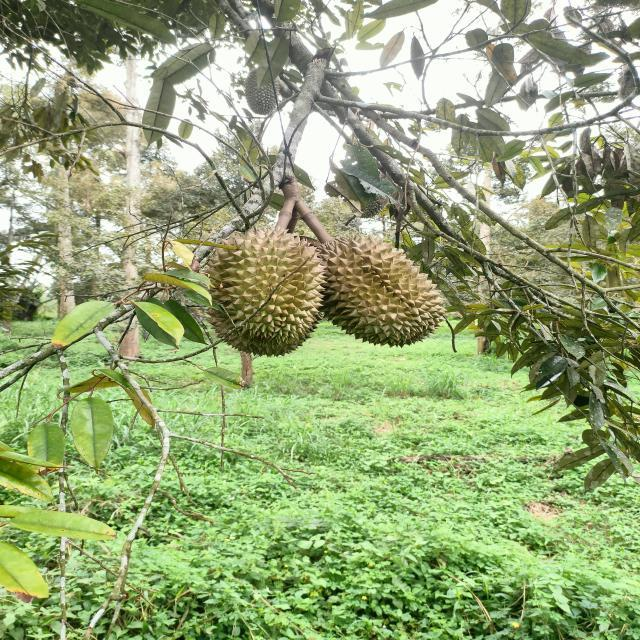mature: (306, 234, 450, 346), (202, 230, 326, 358)
